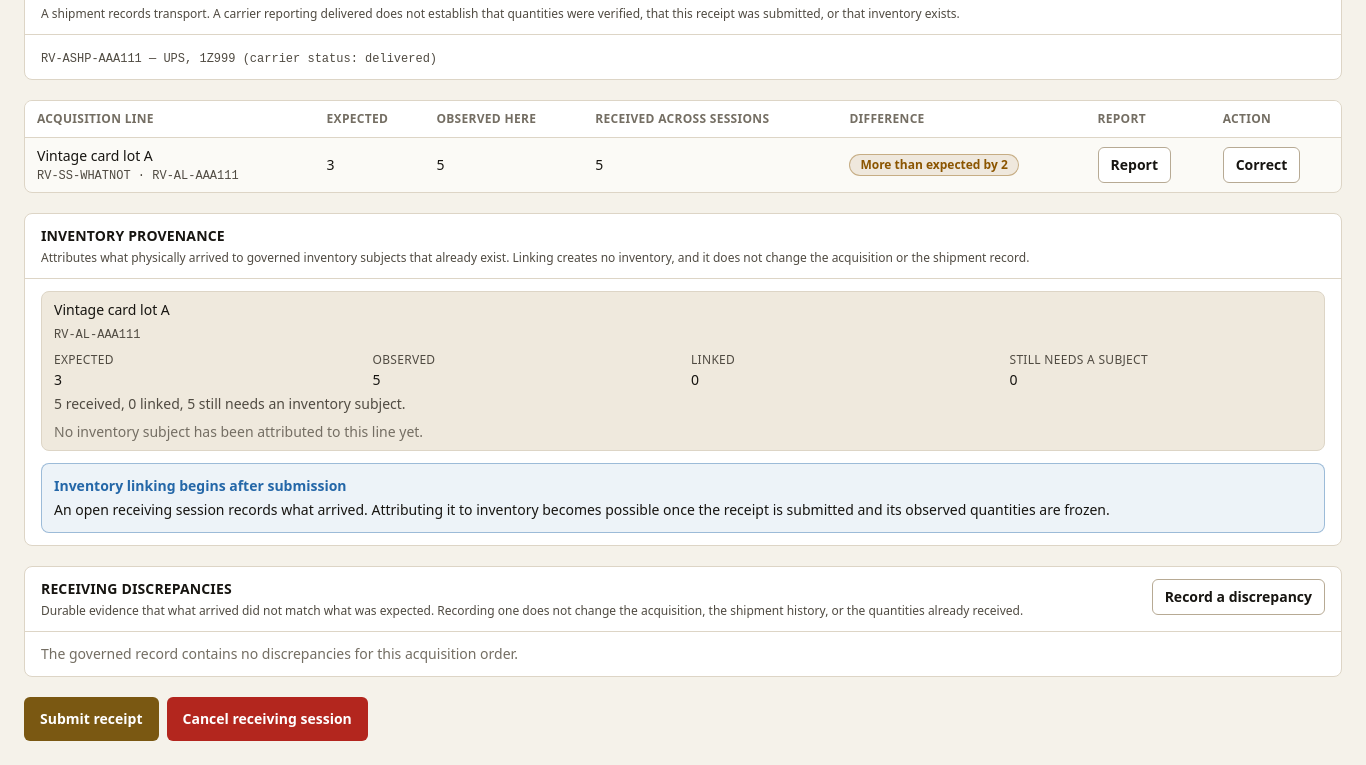
submitting a receipt › explains that submission freezes quantities and is NOT reconciliation
(page scrolled)
Expected: the text "Vintage card lot A" in the row of "More than expected" is shown, [37, 146, 153, 165]
Click the button "Submit receipt": [91, 719] box [24, 697, 158, 741]
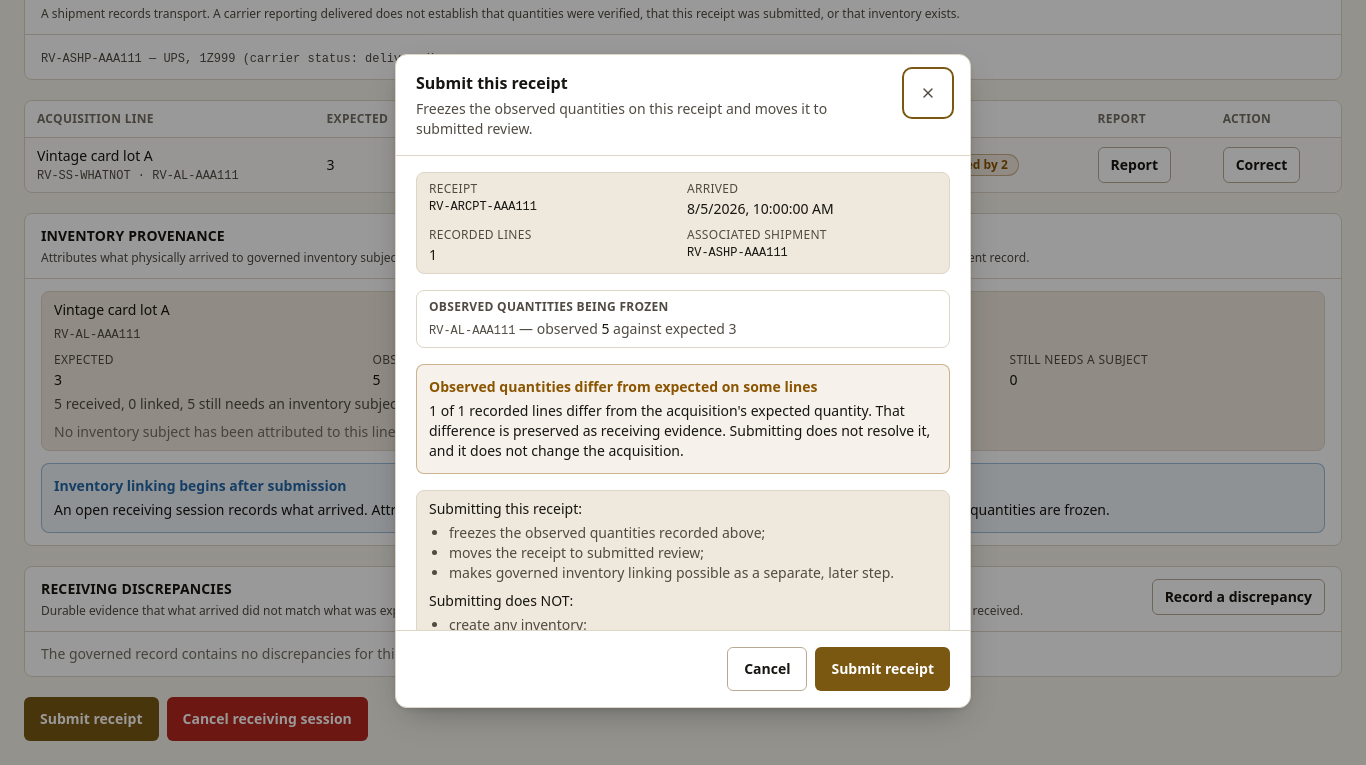
Result: the text "Freezes the observed quantities" is shown at [416, 99, 827, 138]
Result: the list item "moves the receipt to submitted review;" is shown at [449, 543, 704, 562]
Result: the list item "create any inventory;" is shown at [449, 615, 587, 630]
